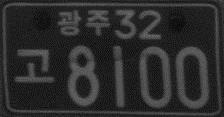0: (175, 46, 210, 110), (138, 46, 172, 108)
1: (111, 44, 127, 110)
2: (138, 9, 162, 42)
3: (113, 7, 137, 39)
8: (67, 43, 99, 107)
고: (12, 47, 55, 84)
광주_O: (57, 6, 110, 38)
